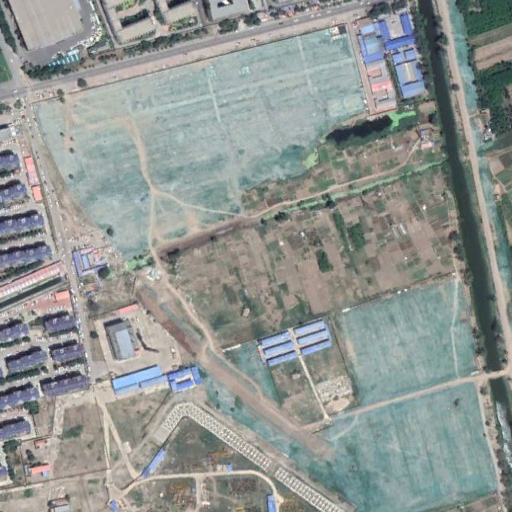cw: (30, 26, 365, 254), (203, 283, 499, 512)
